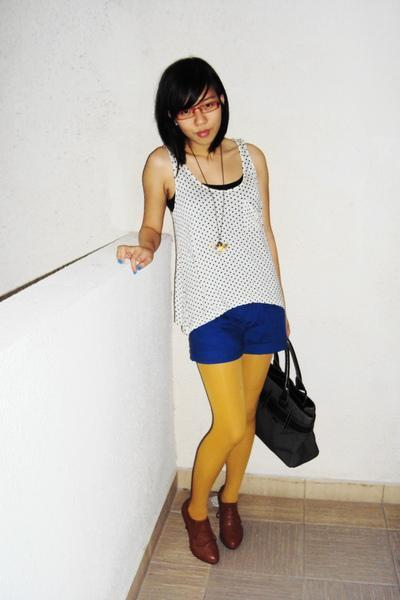bag: (255, 352, 318, 467)
shirt: (162, 144, 285, 336)
shoe: (183, 492, 243, 563)
shorts: (189, 302, 295, 363)
